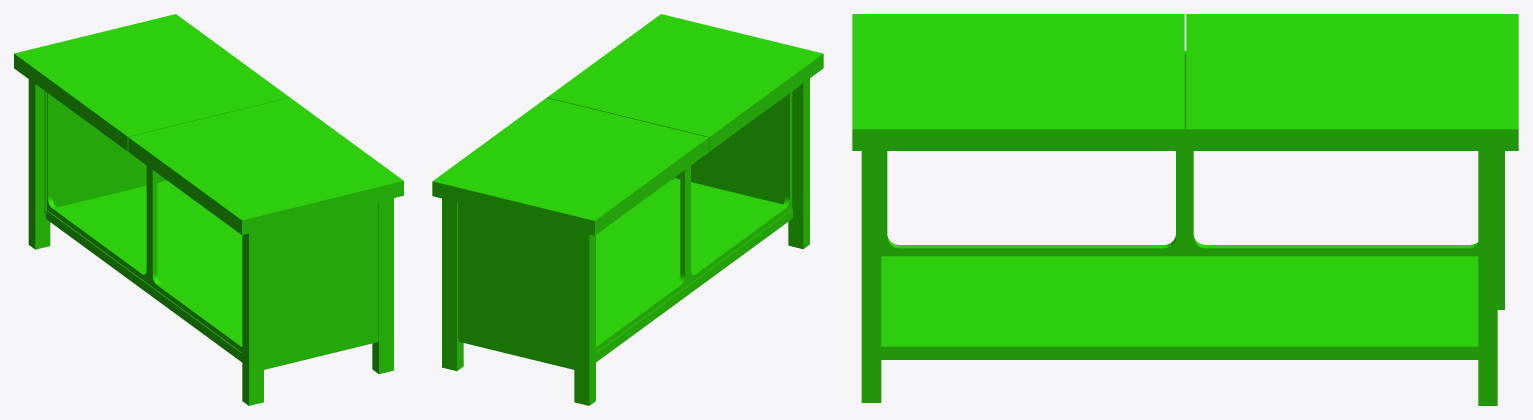
Rendered from Restaurant_Cupboard_02.fbx.
3 views of the same model, side by side, from view 1: azimuth 30°, elevation 25°; view 2: azimuth 150°, elevation 25°; view 3: azimuth 270°, elevation 25° (orthographic). The views are drawn at different scales.
Parts seen in each view (by area): view 1: Restaurant_Cupboard_02; view 2: Restaurant_Cupboard_02; view 3: Restaurant_Cupboard_02.
Part boxes in pixels (<box>): Restaurant_Cupboard_02: <box>14,14,403,405</box>; Restaurant_Cupboard_02: <box>432,14,823,405</box>; Restaurant_Cupboard_02: <box>852,14,1518,405</box>.
Size of the model in its own units: 71.51 by 80.34 by 174.
